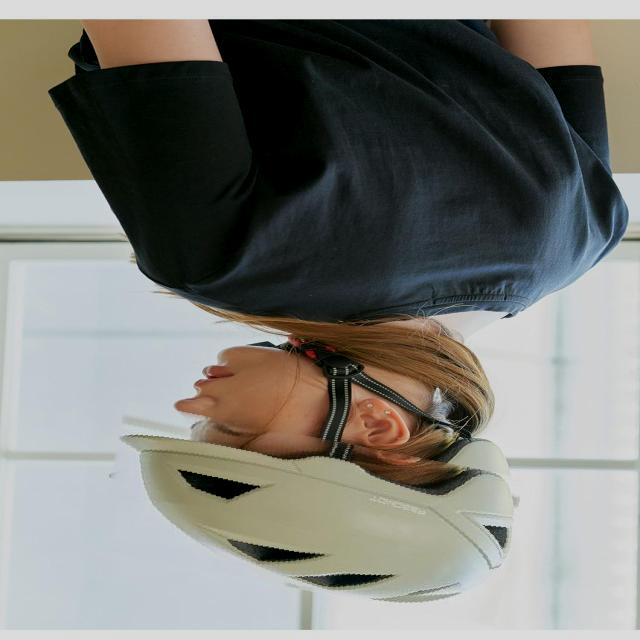helmet: (103, 420, 519, 608)
